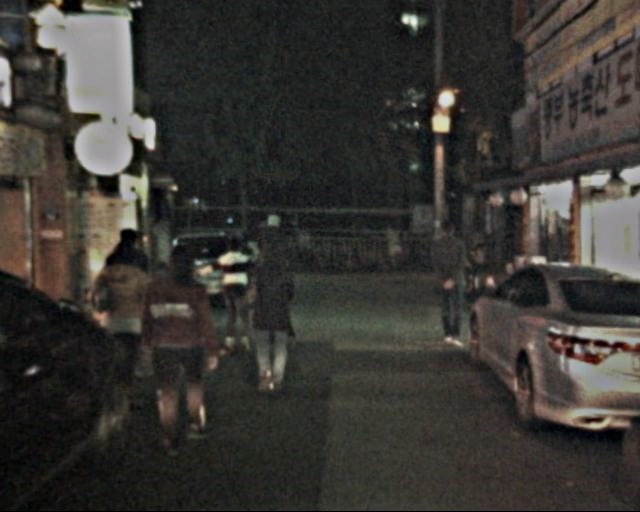person: (142, 245, 221, 444), (239, 235, 303, 401), (97, 236, 164, 387), (427, 213, 477, 351), (211, 234, 260, 352), (250, 206, 294, 313)
